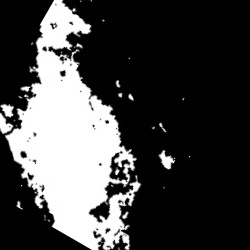crack: (1, 1, 142, 248), (159, 150, 175, 169)
pinhole: (159, 123, 168, 131), (129, 95, 134, 101), (116, 80, 120, 87), (119, 92, 122, 98)
